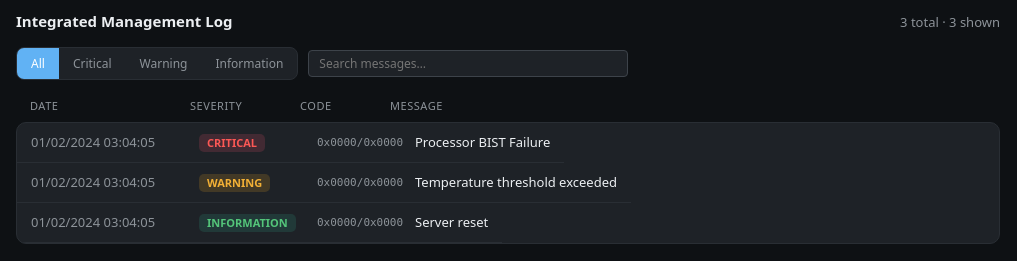
Scenario: ImlTab filtering (worker-backed) › filters to information only
Expected: the text "Processor BIST Failure" is shown, [415,133,550,152]
Step 1. Click the button "Information" → click(249, 64), box [202,48,297,79]
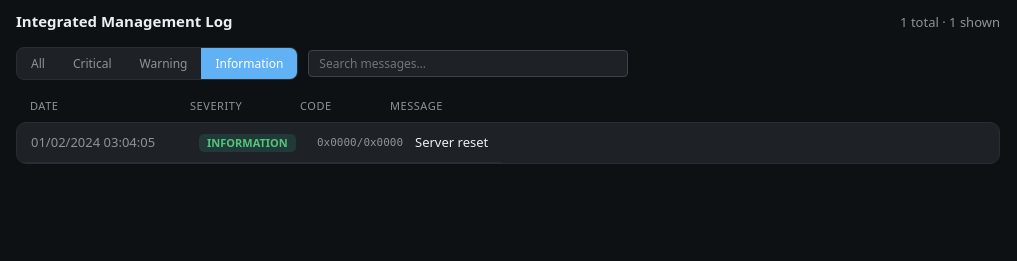
Expected: the text "Server reset" is shown, [415,133,488,152]
Expected: the text "BIST Failure" is gone
